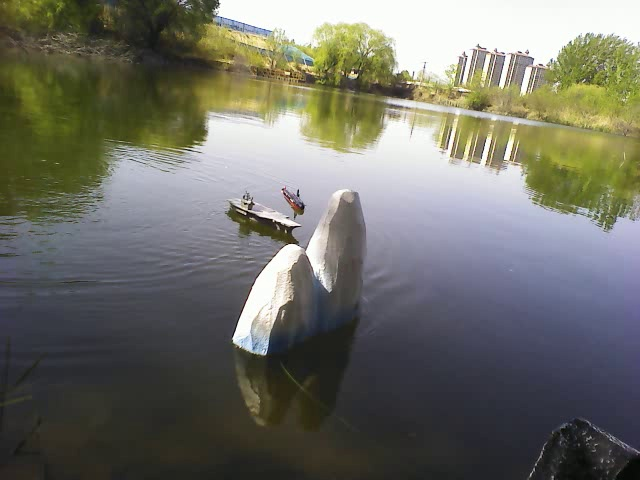aircraft_carrier: (227, 196, 299, 234)
iceberg: (227, 187, 376, 350)
rock: (525, 413, 636, 477)
submarine: (279, 185, 310, 218)
